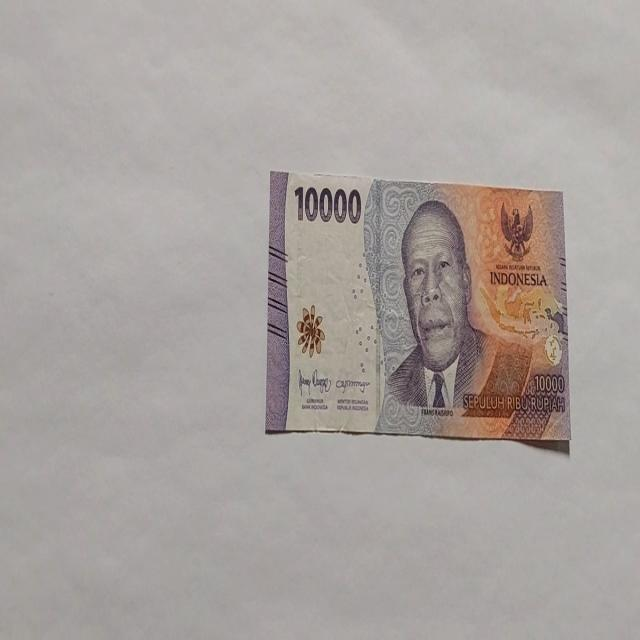sepuluh ribu rupiah: (265, 169, 571, 448), (373, 198, 532, 436)
